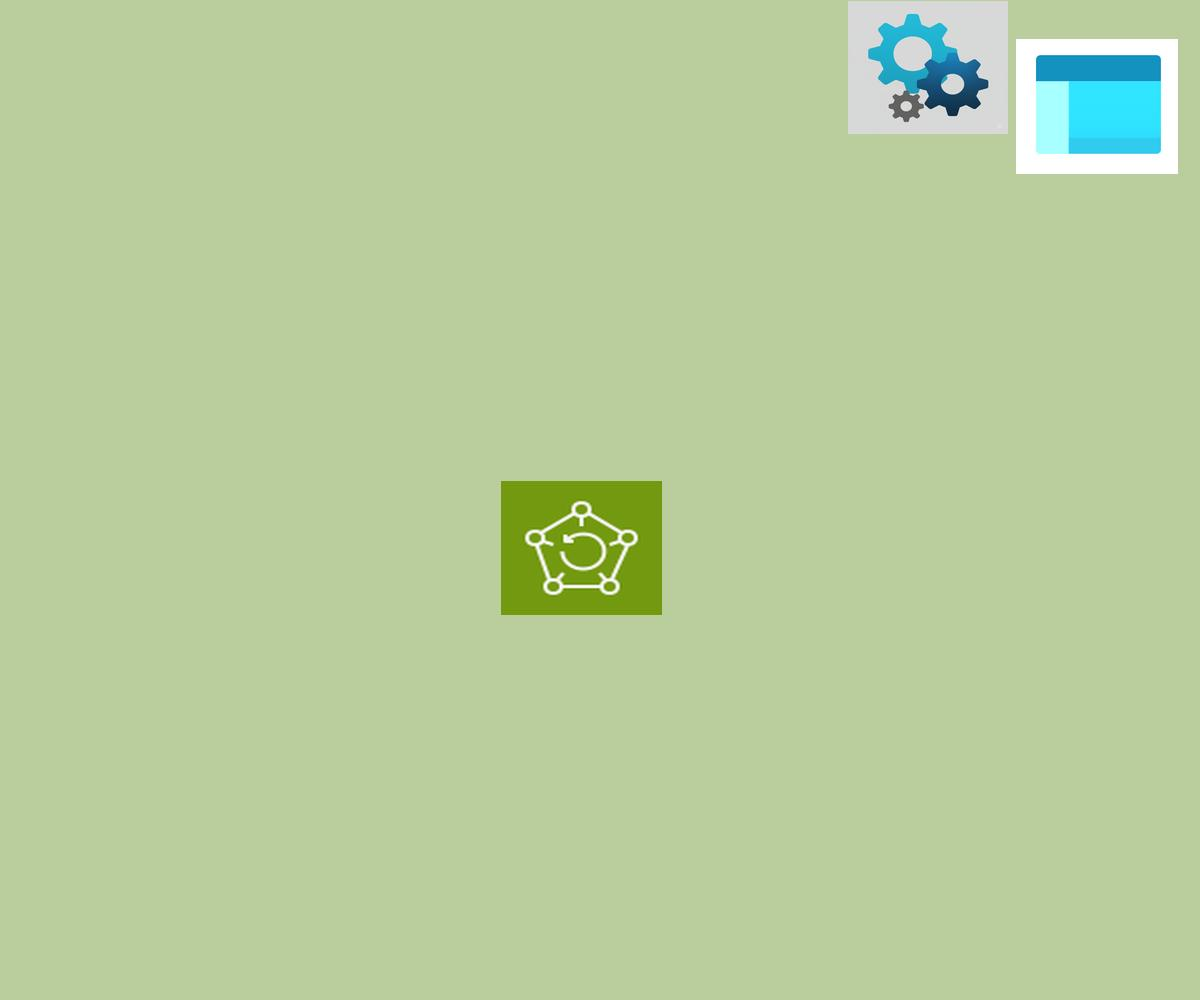AWS-Backup: (501, 481, 662, 615)
Azure_api: (848, 1, 1008, 134)
Azure_management-portal: (1016, 39, 1178, 174)
